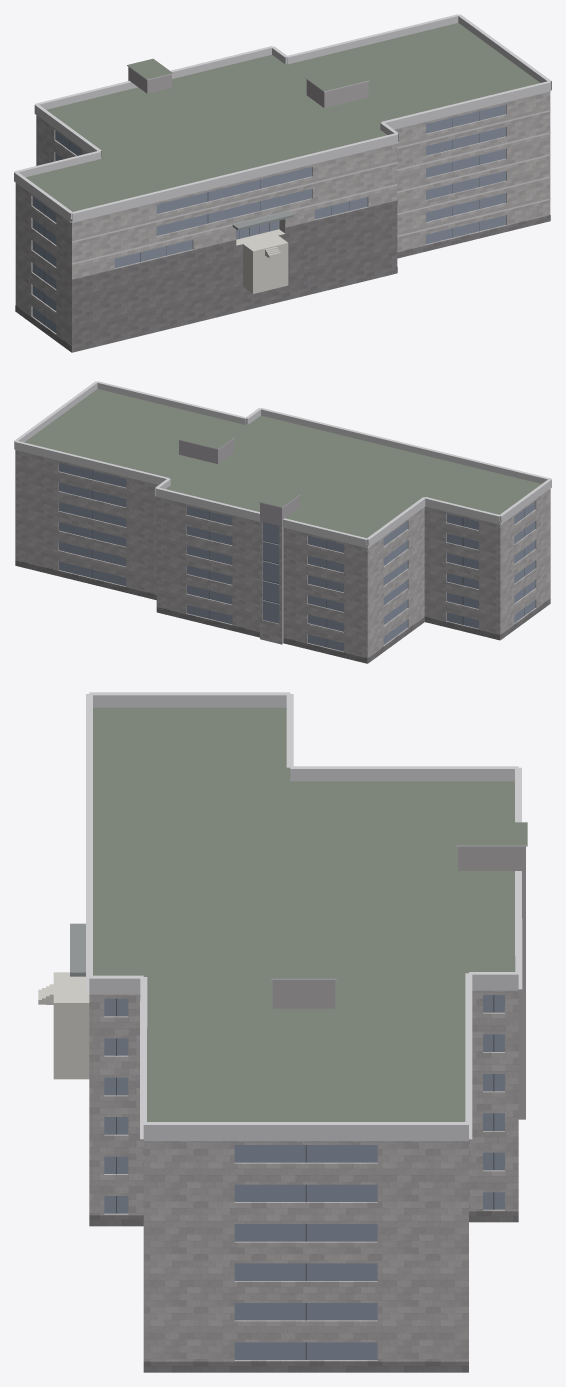
3 renders of one model, top to bottom at view 1: azimuth 30°, elevation 25°; view 2: azimuth 150°, elevation 25°; view 3: azimuth 270°, elevation 25°, orthographic. The views are drawn at different scales.
Visible parts, largest first — view 1: b316__roof, b316__wall, b316__base, b316__trim, b316__glass, b316__entranceStair, b316__wall2, b316__canopy; view 2: b316__wall, b316__roof, b316__glass, b316__trim, b316__base, b316__wall2, b316__frame; view 3: b316__roof, b316__wall, b316__trim, b316__glass, b316__base, b316__wall2, b316__entranceStair, b316__canopy.
Part boxes in pixels (box(x1,y1,x2,y2)): b316__roof: box(26, 23, 539, 351); b316__wall: box(15, 91, 550, 352); b316__base: box(15, 200, 550, 352); b316__trim: box(14, 14, 551, 264); b316__glass: box(32, 104, 505, 333); b316__entranceStair: box(236, 229, 288, 293); b316__wall2: box(128, 67, 368, 107); b316__canopy: box(232, 211, 294, 230); b316__wall: box(15, 450, 550, 663); b316__roof: box(24, 389, 541, 545); b316__glass: box(59, 463, 535, 651); b316__trim: box(14, 381, 551, 547); b316__base: box(15, 560, 550, 663); b316__wall2: box(179, 439, 298, 644); b316__frame: box(92, 471, 524, 646); b316__roof: box(93, 707, 527, 1121); b316__wall: box(89, 990, 518, 1361); b316__trim: box(86, 692, 527, 1140); b316__glass: box(104, 995, 504, 1359); b316__base: box(89, 1211, 518, 1372); b316__wall2: box(272, 846, 525, 1119); b316__entranceStair: box(38, 972, 89, 1079); b316__canopy: box(70, 923, 85, 976).
Size of the model in its own units: 84.64 by 25.13 by 40.5.
10 materials, 2 textured.
